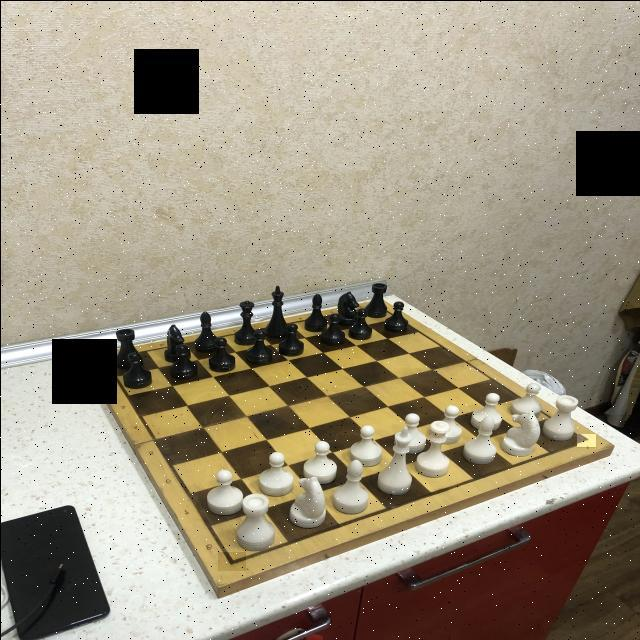chess-table-corners: (217, 551, 245, 570), (576, 433, 595, 448), (94, 353, 112, 364)
